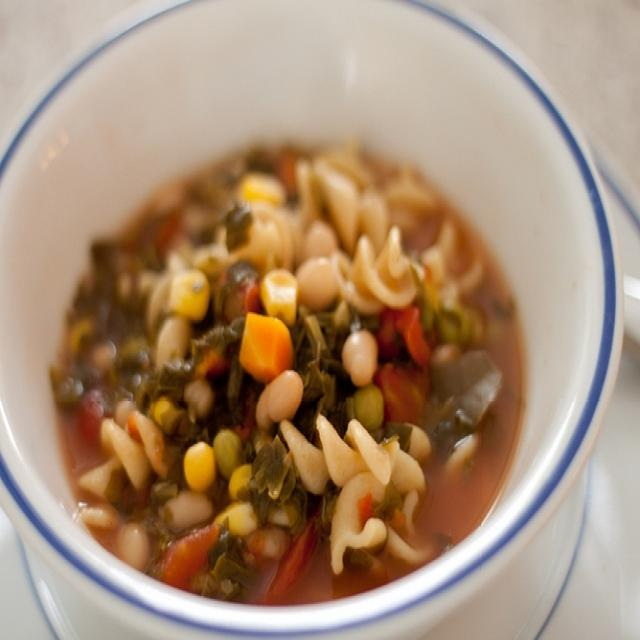汤锅炖物: (1, 0, 619, 631)
